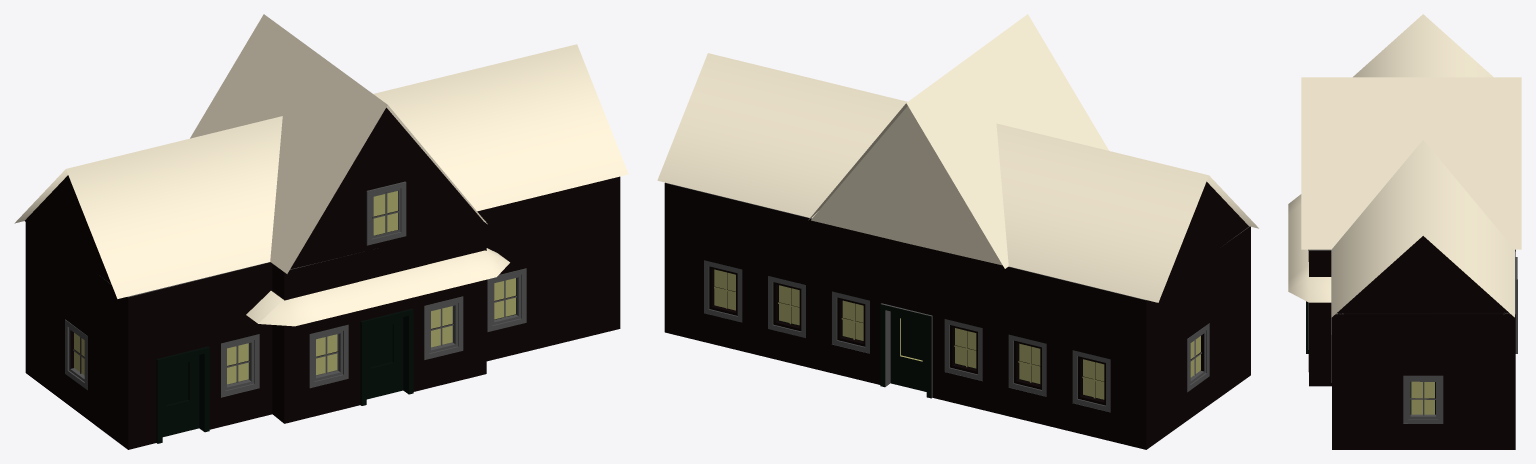
File: CasaEstado1.fbx
3 renders of one model, left to right at view 1: azimuth 30°, elevation 25°; view 2: azimuth 150°, elevation 25°; view 3: azimuth 270°, elevation 25°, orthographic. The views are drawn at different scales.
Parts seen in each view (by area): view 1: Wall001, Plane001, Plane002, Box001, Plane003, PivotDoor002, PivotDoor001, Box003, AwningWindow001, AwningWindow002, AwningWindow010, AwningWindow005 (+7 smaller); view 2: Wall001, Plane001, Plane002, Box002, PivotDoor003, Box003, AwningWindow006, AwningWindow008, AwningWindow007, AwningWindow004, AwningWindow009, AwningWindow003 (+7 smaller); view 3: Plane002, Wall001, Plane001, Box004, Plane003, AwningWindow013, Box041, PivotDoor003.
Boxes of the visible parts, <box> form: Wall001: <box>25,176,620,449</box>; Plane001: <box>14,44,628,298</box>; Plane002: <box>190,14,487,273</box>; Box001: <box>290,107,484,269</box>; Plane003: <box>246,248,509,326</box>; PivotDoor002: <box>156,346,209,443</box>; PivotDoor001: <box>360,308,413,405</box>; Box003: <box>25,175,111,284</box>; AwningWindow001: <box>309,324,348,387</box>; AwningWindow002: <box>424,296,463,359</box>; AwningWindow010: <box>487,268,526,331</box>; AwningWindow005: <box>221,334,259,397</box>; Wall001: <box>664,182,1250,449</box>; Plane001: <box>657,53,1258,302</box>; Plane002: <box>808,14,1108,268</box>; Box002: <box>811,106,1002,265</box>; PivotDoor003: <box>880,303,932,398</box>; Box003: <box>1164,181,1248,288</box>; AwningWindow006: <box>1008,334,1046,396</box>; AwningWindow008: <box>704,260,742,322</box>; AwningWindow007: <box>1072,350,1110,412</box>; AwningWindow004: <box>944,319,982,380</box>; AwningWindow009: <box>768,276,805,337</box>; AwningWindow003: <box>832,291,869,353</box>; Plane002: <box>1301,77,1521,249</box>; Wall001: <box>1308,249,1515,449</box>; Plane001: <box>1331,14,1514,317</box>; Box004: <box>1337,236,1508,312</box>; Plane003: <box>1288,194,1331,302</box>; AwningWindow013: <box>1403,375,1443,423</box>; Box041: <box>1411,381,1434,414</box>; PivotDoor003: <box>1515,257,1517,353</box>.
Size of the model in its own units: 214 by 119 by 95.17.
